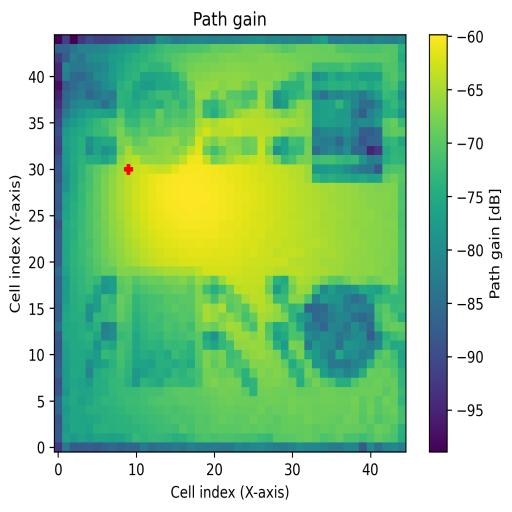Concrete: (313, 63, 382, 184)
Glass: (125, 71, 194, 165)
Metal: (297, 278, 384, 388)
Wood: (132, 276, 202, 386)
